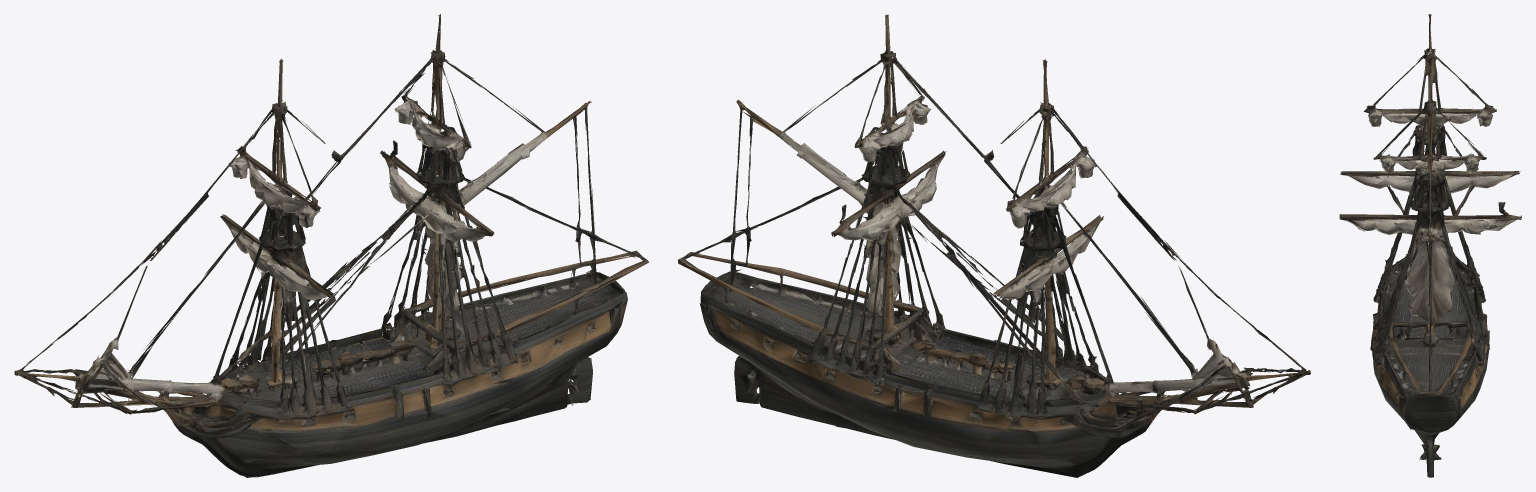
File: ship-snow-background.glb
The picture shows the model from 3 angles, left to right: view 1: azimuth 30°, elevation 25°; view 2: azimuth 150°, elevation 25°; view 3: azimuth 270°, elevation 25°; orthographic projection. The views are drawn at different scales.
Visible parts, largest first — view 1: Mesh_0; view 2: Mesh_0; view 3: Mesh_0.
Boxes of the visible parts, x1,y1,x2,y2 form: Mesh_0: (14,14,648,477); Mesh_0: (678,14,1310,477); Mesh_0: (1339,14,1521,477).
Bounding box in the file's own units: 1.9 × 1.22 × 0.584.
1 material, 1 textured.
